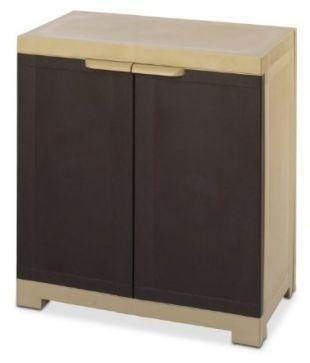cabinet_door: (132, 70, 262, 309), (19, 57, 133, 286)
handle: (133, 65, 187, 86), (83, 58, 133, 78)
